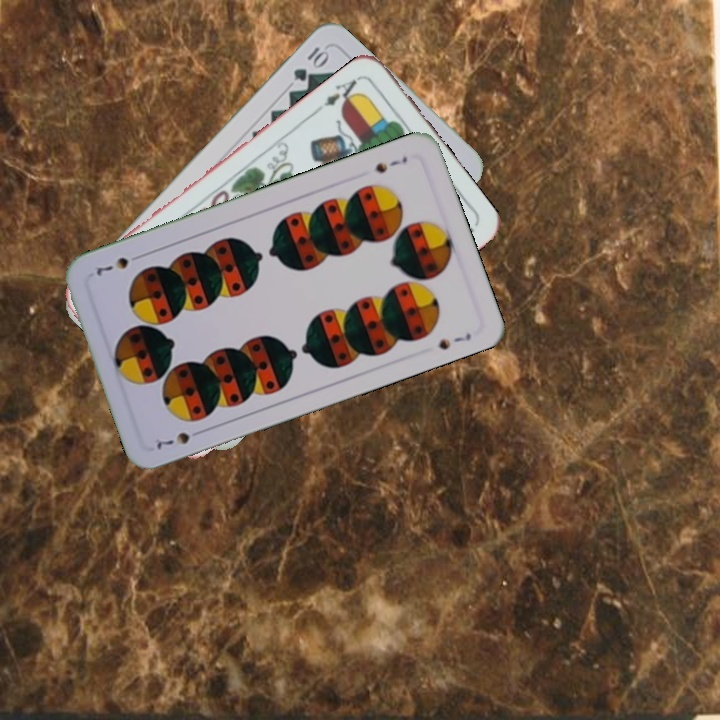EA: (320, 72, 365, 110)
G10: (289, 42, 331, 84)
S7: (151, 425, 207, 452), (371, 152, 410, 176)
